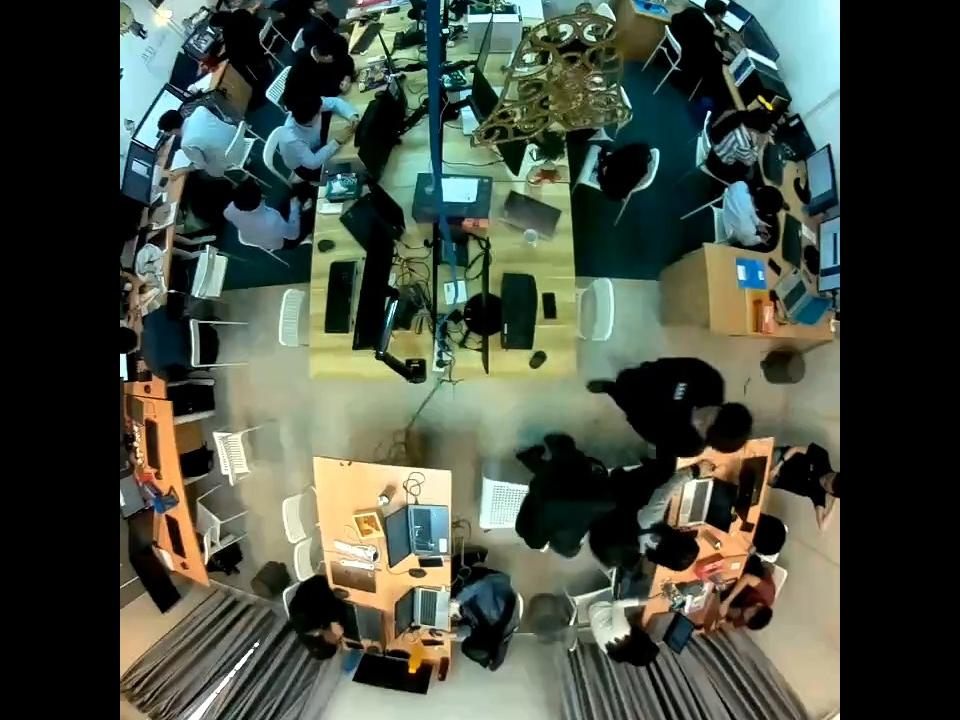name-tag: (673, 381, 687, 399)
